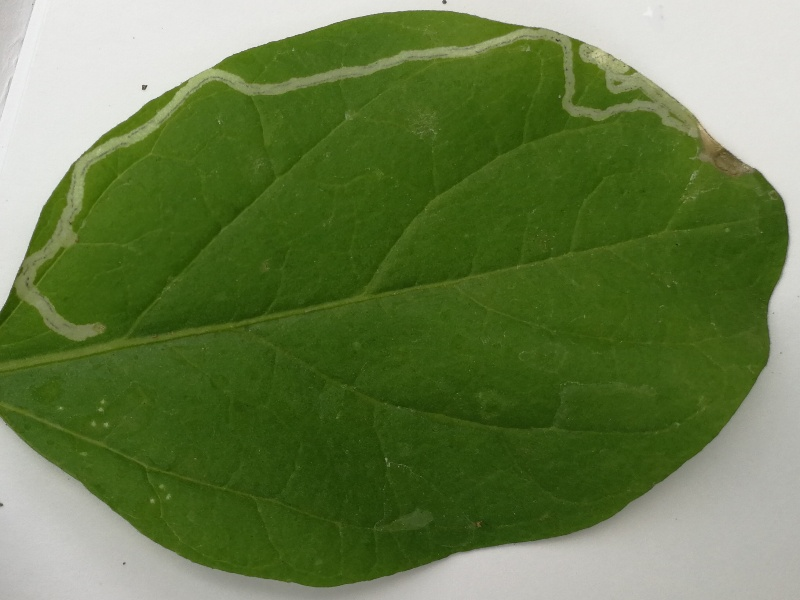leafminer: (8, 26, 752, 347)
